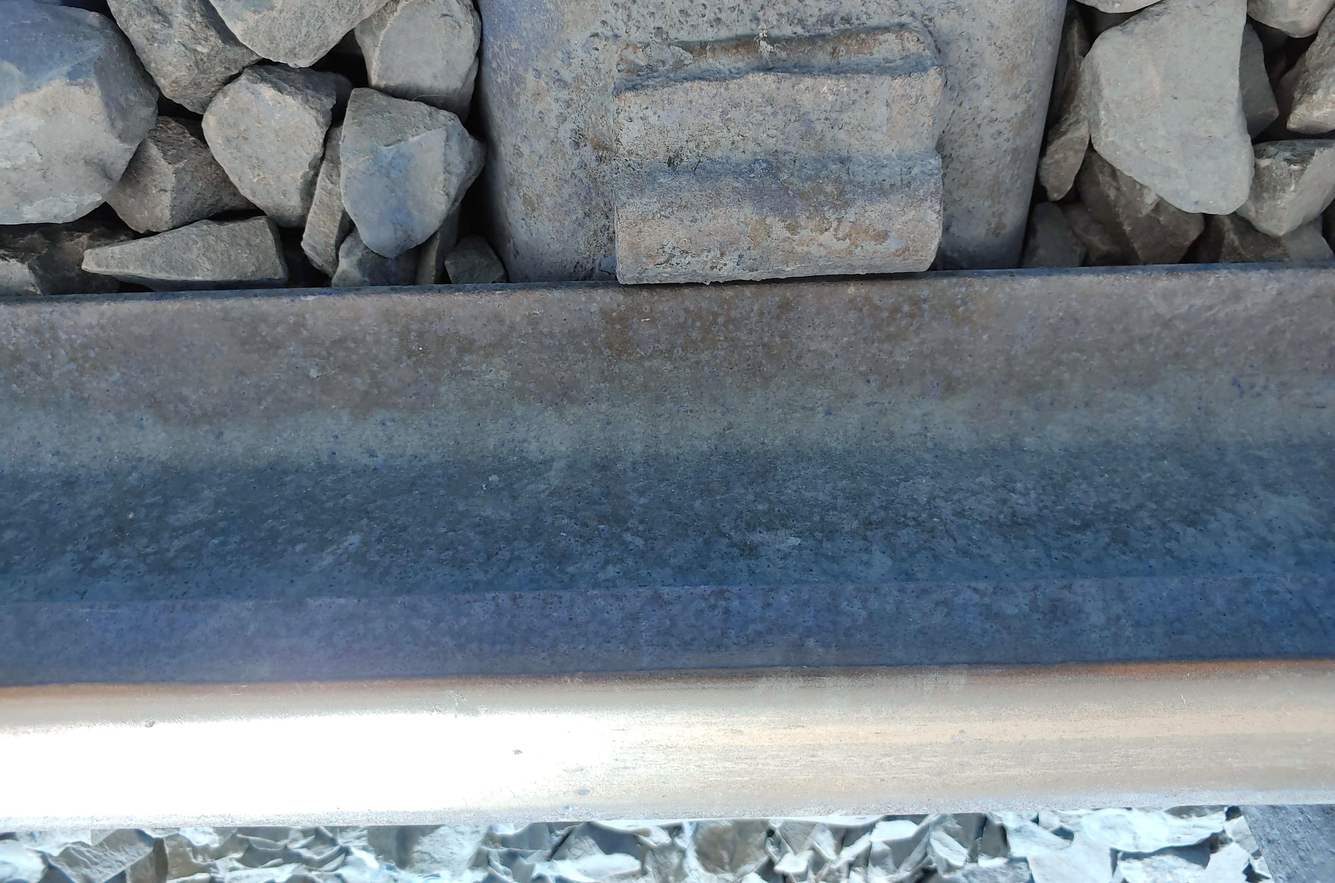loss: (604, 41, 957, 276)
